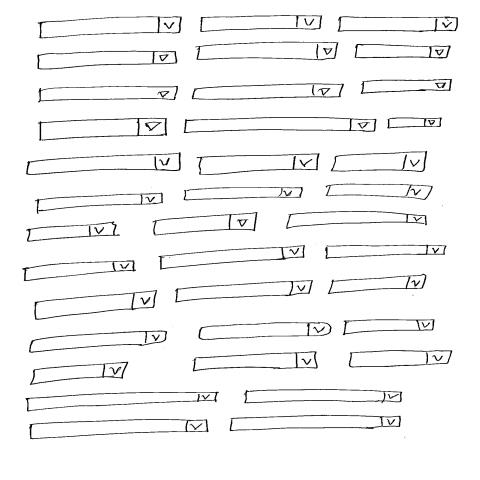Select: (29, 418, 209, 441), (25, 392, 219, 413), (159, 246, 307, 271), (35, 290, 158, 320), (26, 153, 182, 176), (39, 16, 182, 40), (184, 117, 377, 134), (39, 117, 169, 142), (29, 331, 168, 354), (175, 280, 314, 303), (229, 415, 402, 433), (37, 51, 179, 72), (198, 154, 321, 177), (192, 351, 320, 373), (192, 83, 345, 101), (195, 42, 339, 61), (286, 211, 427, 230), (36, 194, 164, 214), (38, 85, 179, 103), (23, 261, 137, 283), (153, 213, 259, 236), (198, 323, 333, 341), (244, 390, 403, 405), (29, 363, 128, 386), (199, 16, 323, 34), (338, 16, 460, 33), (332, 152, 428, 173), (349, 350, 453, 369), (27, 222, 118, 243), (328, 275, 426, 294), (325, 245, 448, 260), (326, 184, 434, 200), (184, 187, 304, 201), (343, 319, 437, 336), (354, 44, 451, 60), (360, 79, 453, 95), (386, 117, 445, 130)
